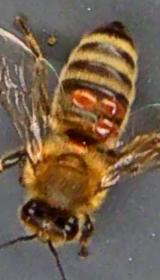varroa_mite: (90, 88, 124, 119), (84, 111, 120, 140), (67, 78, 98, 111)
